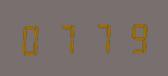nine: (117, 19, 149, 54)
seven: (51, 20, 83, 56), (84, 19, 116, 55)
zero: (18, 21, 50, 56)
